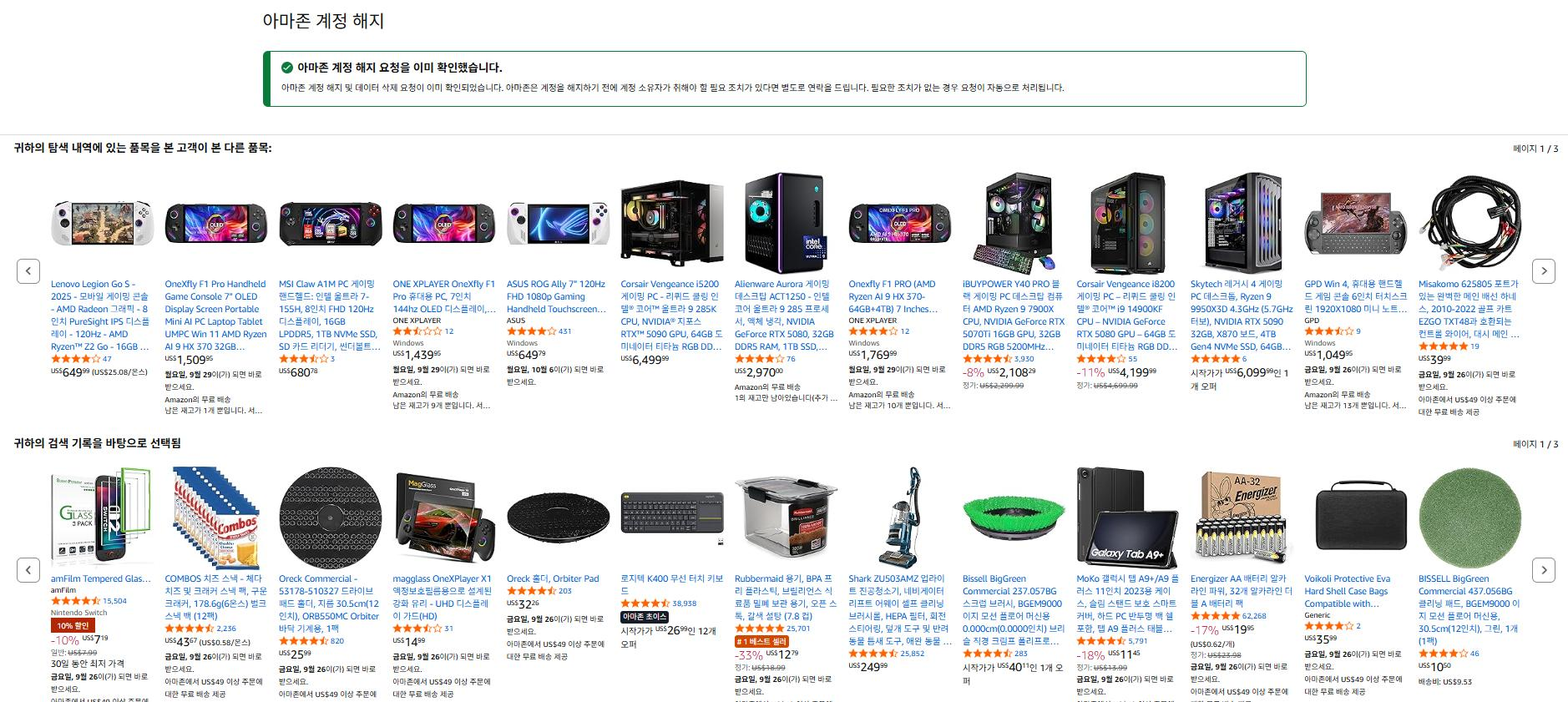button: (14, 257, 42, 284), (16, 557, 40, 582)
